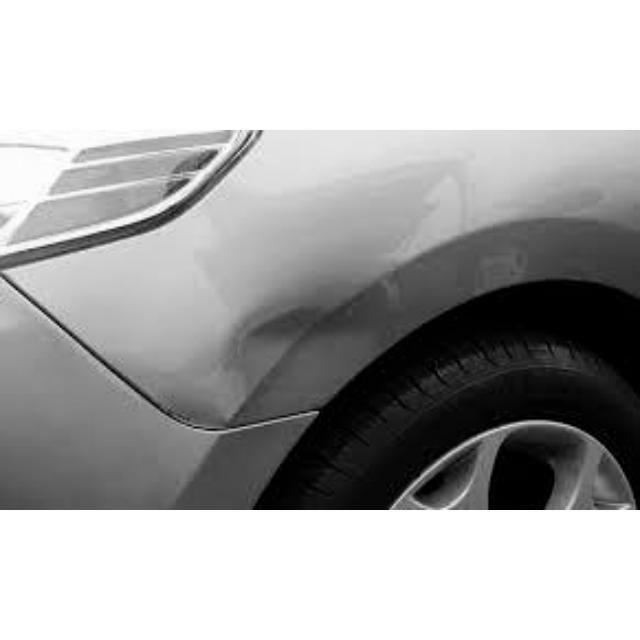fender-dent: (166, 278, 394, 417)
